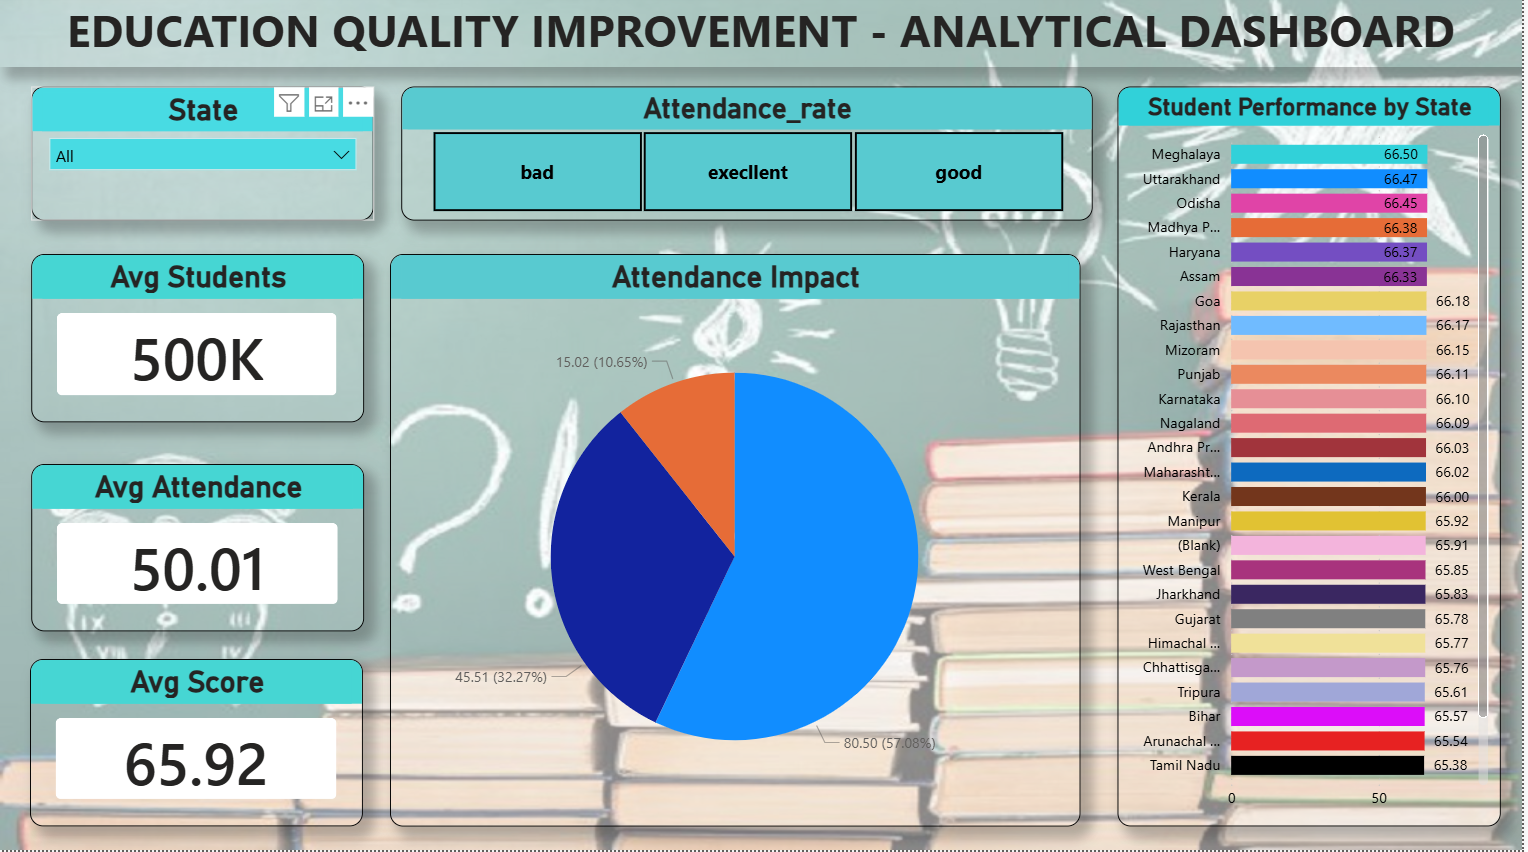

This screenshot's page, from the dashboard's own definition file:
{"tool":"powerbi","page":{"name":"DashBoard1","canvas":[1280,720],"ordinal":0},"visuals":[{"type":"textbox","box":[0,0,1280.3,61.7],"z":1000},{"type":"cardVisual","title":"Avg Attendance","fields":{"Data":["Avg(Attandance_Data.Attendance)"]},"box":[26.7,395.3,280.2,140.7],"z":2000},{"type":"slicer","title":"Attendance_rate","fields":{"Values":["Attandance_Data.attendance_rate"]},"box":[337.2,77.9,581.4,112.8],"z":3000},{"type":"slicer","title":"State","fields":{"Values":["School_Infrastructure Data.State"]},"box":[26.1,78.2,288.2,112.5],"z":4000},{"type":"cardVisual","title":"Avg Score","fields":{"Data":["Avg(Student_performance Data.Score)"]},"box":[25.6,559.3,280.2,140.7],"z":5000},{"type":"pieChart","title":" Attendance Impact","fields":{"Category":["Attandance_Data.attendance_rate"],"Y":["Avg(Attandance_Data.Attendance)"]},"box":[328,218.2,580.4,481.6],"z":6000},{"type":"barChart","title":"Student Performance by State","fields":{"Category":["Student_performance Data.Teacher_Data.State"],"Y":["Avg(Student_performance Data.Score)"]},"box":[939.5,77.9,322.1,622.1],"z":7000},{"type":"cardVisual","title":"Avg Students","fields":{"Data":["CountNonNull(Socio_economic Data.Student ID)"]},"box":[26.1,218.2,279.9,141.3],"z":8000}]}

Visuals, with their boxes in screenshot pixels (x1, y1, x2, y2), scaled from the page's 1280x720 canvas onto the 1528x852 screenshot:
textbox: crop(0, 0, 1527, 73)
"Avg Attendance" cardVisual: crop(32, 468, 366, 634)
"Attendance_rate" slicer: crop(403, 92, 1097, 226)
"State" slicer: crop(31, 93, 375, 226)
"Avg Score" cardVisual: crop(31, 662, 365, 828)
" Attendance Impact" pieChart: crop(392, 258, 1084, 828)
"Student Performance by State" barChart: crop(1122, 92, 1506, 828)
"Avg Students" cardVisual: crop(31, 258, 365, 425)
